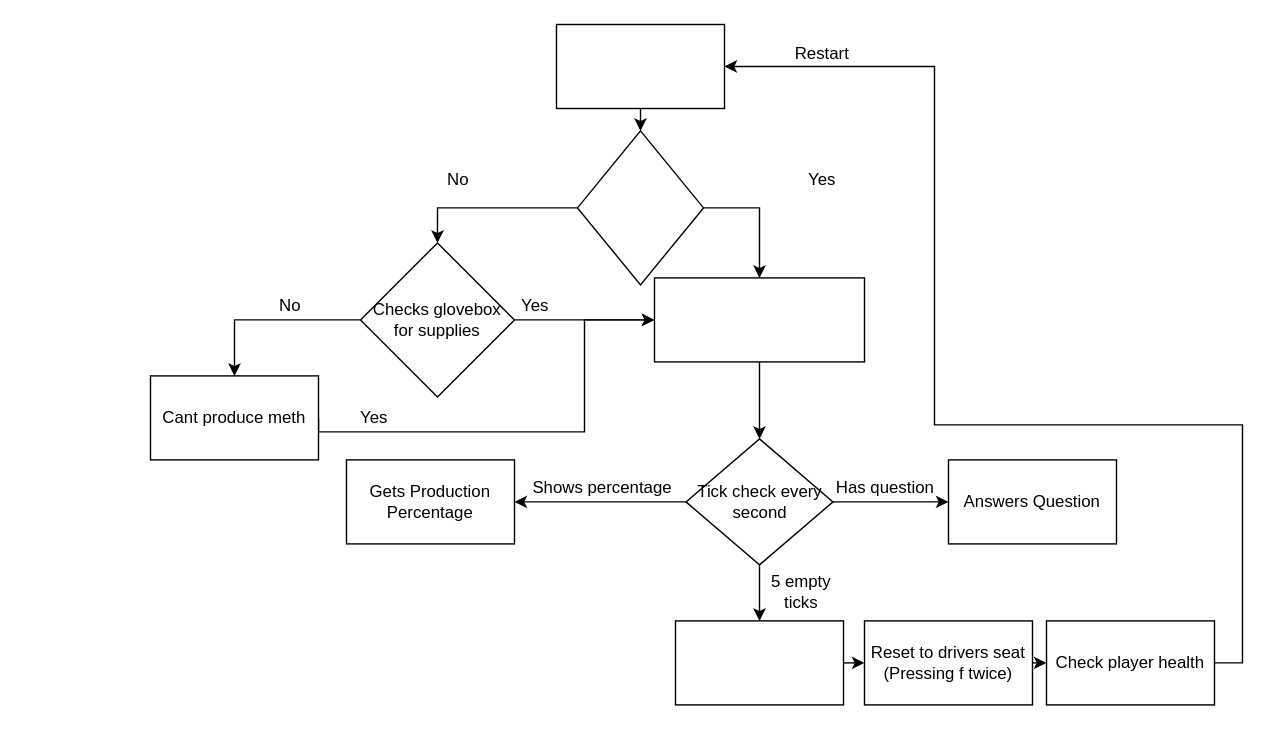
Some shapes in this 1278 by 729 pixel diagram are drawn without their labels. Here are the shapes that lost their labels. From the top down, the box of each, then its label:
(555, 23, 724, 108): Player starts in drivers seat of journey van
(576, 130, 704, 285): Checks player has supplies
(653, 276, 864, 362): Starts meth production (Presses G)
(674, 620, 844, 705): Meth production complete
